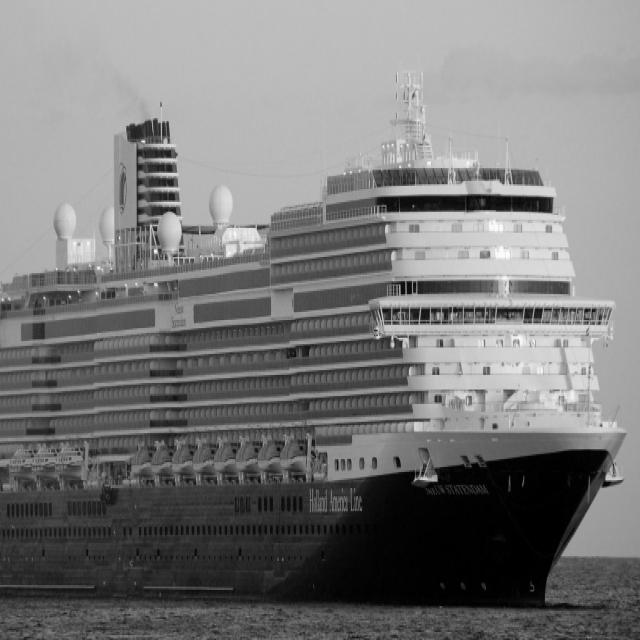cruises: (1, 66, 631, 622)
